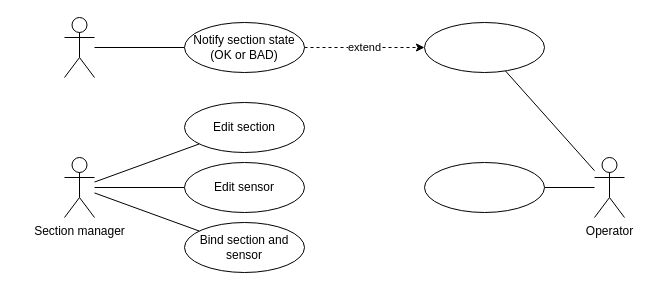
Image size: 650x290. Some labels were removed from this diagram. Each missing label, with the centre of its shape:
<<service>> Section integrity sensor: the point at 79,47
Organize repair crew: the point at 484,187
Prepare failure report: the point at 484,47
